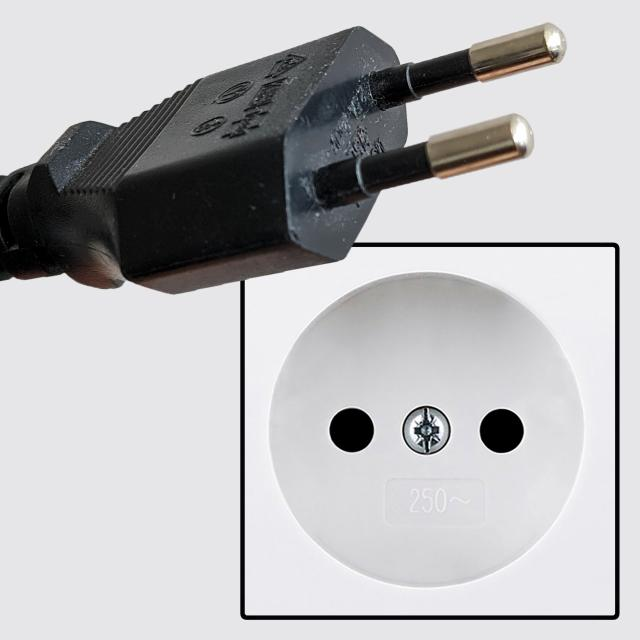typeb: (262, 240, 618, 612)
